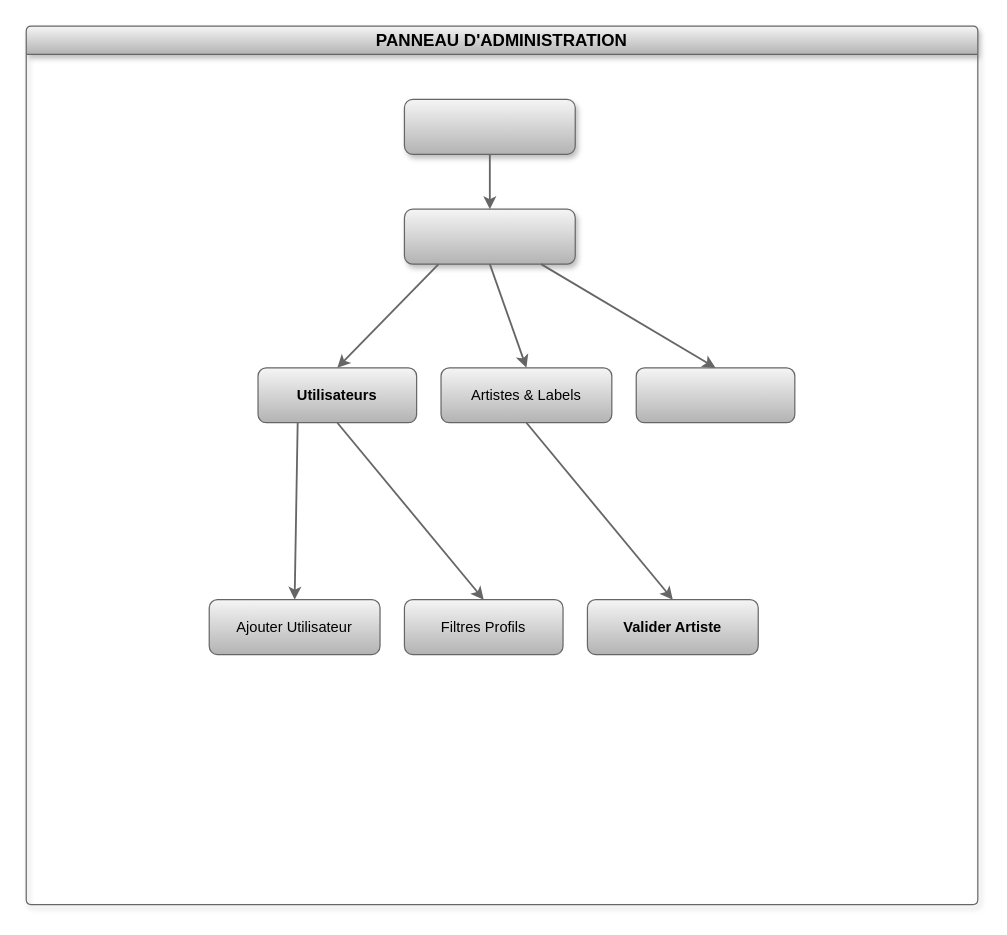
Image size: 1007x935. Some labels were removed from this diagram. Here are the shapes that lost their labels. From the top down, the centre of each, then its label:
point (490, 128): Auth Admin
point (490, 238): Dashboard Général
point (715, 395): Notifications
